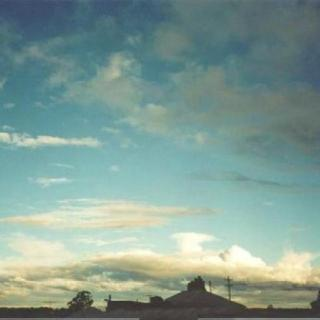Stratocumulus: (0, 0, 320, 308)
